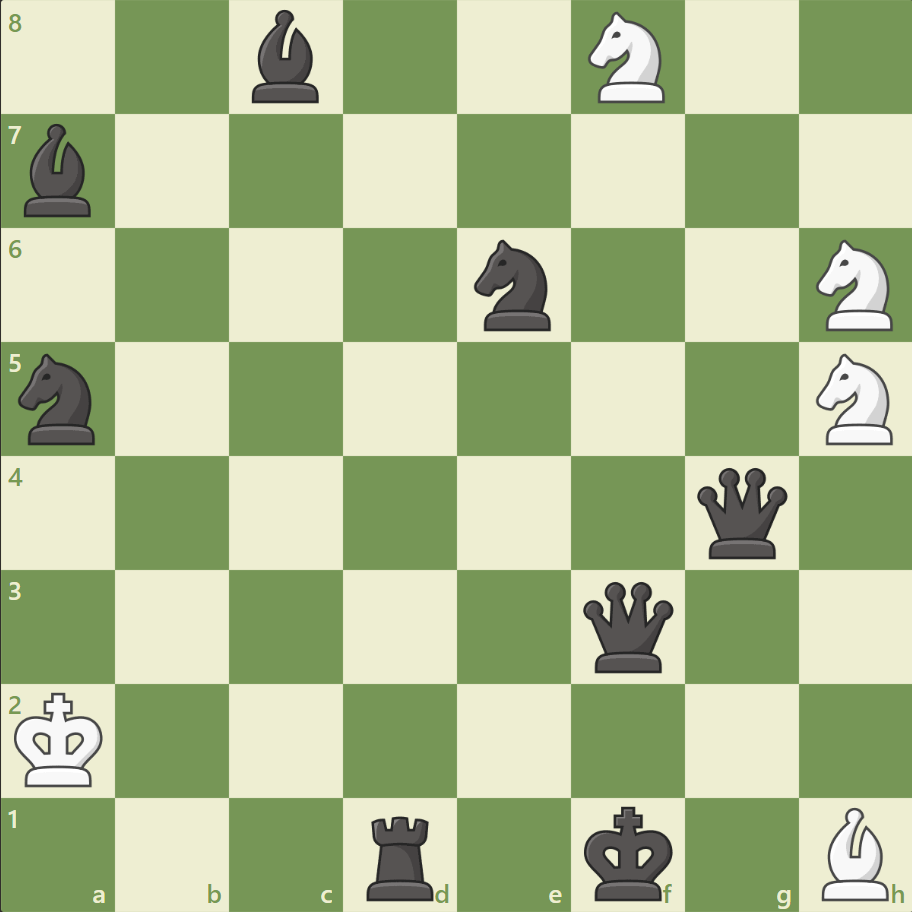B: (812, 801, 896, 904)
K: (11, 685, 111, 793)
N: (579, 7, 676, 110), (806, 234, 903, 337), (806, 348, 903, 450)
b: (244, 6, 328, 109), (17, 120, 101, 222)
k: (579, 798, 679, 906)
n: (465, 234, 562, 337), (11, 348, 108, 450)
q: (578, 576, 677, 676), (691, 463, 790, 562)
r: (360, 806, 442, 904)
